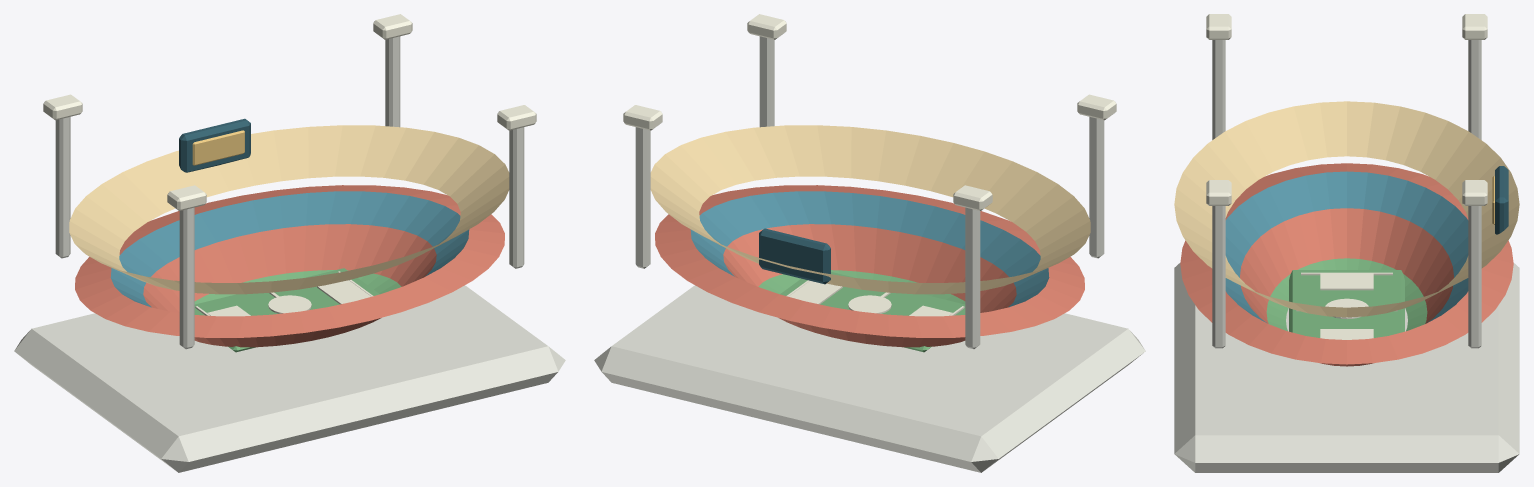
Rendered from world-cup-stadium.glb.
The picture shows the model from 3 angles, left to right: view 1: azimuth 30°, elevation 25°; view 2: azimuth 150°, elevation 25°; view 3: azimuth 270°, elevation 25°; orthographic projection. The views are drawn at different scales.
Parts seen in each view (by area): view 1: Stadium_Square_Plinth, Stadium_Stepped_Bowl, Stadium_Open_Roof_Ring, Pitch, Floodlight_Tower, Floodlight_Tower.002, Floodlight_Tower.001, Stadium_Scoreboard, Floodlight_Tower.003, Scoreboard_Gold_Band, Floodlight_Lamp.002, Floodlight_Lamp.003 (+4 smaller); view 2: Stadium_Square_Plinth, Stadium_Stepped_Bowl, Stadium_Open_Roof_Ring, Stadium_Scoreboard, Floodlight_Tower.001, Floodlight_Tower.003, Floodlight_Tower, Pitch, Floodlight_Tower.002, Floodlight_Lamp.003, Floodlight_Lamp.002, Floodlight_Lamp (+3 smaller); view 3: Stadium_Square_Plinth, Stadium_Stepped_Bowl, Stadium_Open_Roof_Ring, Pitch, Floodlight_Tower.002, Floodlight_Tower.003, Floodlight_Tower, Floodlight_Tower.001, Penalty_Box_Mark, Stadium_Scoreboard, Floodlight_Lamp, Floodlight_Lamp.001 (+4 smaller).
Boxes of the visible parts, bbox=[...] form: Stadium_Square_Plinth: bbox=[14, 285, 565, 472]; Stadium_Stepped_Bowl: bbox=[75, 185, 504, 347]; Stadium_Open_Roof_Ring: bbox=[69, 125, 509, 294]; Pitch: bbox=[194, 268, 379, 352]; Floodlight_Tower: bbox=[179, 207, 194, 349]; Floodlight_Tower.002: bbox=[509, 127, 524, 268]; Floodlight_Tower.001: bbox=[55, 117, 70, 258]; Stadium_Scoreboard: bbox=[179, 118, 250, 172]; Floodlight_Tower.003: bbox=[385, 36, 400, 127]; Scoreboard_Gold_Band: bbox=[192, 130, 244, 165]; Floodlight_Lamp.002: bbox=[497, 105, 536, 130]; Floodlight_Lamp.003: bbox=[373, 14, 412, 39]; Stadium_Square_Plinth: bbox=[594, 285, 1145, 472]; Stadium_Stepped_Bowl: bbox=[655, 185, 1084, 347]; Stadium_Open_Roof_Ring: bbox=[650, 125, 1090, 294]; Stadium_Scoreboard: bbox=[759, 228, 830, 284]; Floodlight_Tower.001: bbox=[965, 207, 980, 349]; Floodlight_Tower.003: bbox=[635, 127, 650, 268]; Floodlight_Tower: bbox=[1089, 117, 1104, 258]; Pitch: bbox=[780, 272, 965, 352]; Floodlight_Tower.002: bbox=[759, 36, 774, 127]; Floodlight_Lamp.003: bbox=[623, 105, 662, 130]; Floodlight_Lamp.002: bbox=[747, 14, 786, 39]; Floodlight_Lamp: bbox=[1077, 94, 1116, 120]; Stadium_Square_Plinth: bbox=[1174, 263, 1519, 472]; Stadium_Stepped_Bowl: bbox=[1180, 163, 1513, 366]; Stadium_Open_Roof_Ring: bbox=[1174, 101, 1519, 317]; Pitch: bbox=[1289, 270, 1404, 337]; Floodlight_Tower.002: bbox=[1212, 206, 1225, 348]; Floodlight_Tower.003: bbox=[1468, 206, 1481, 348]; Floodlight_Tower: bbox=[1212, 40, 1225, 139]; Floodlight_Tower.001: bbox=[1468, 40, 1481, 139]; Penalty_Box_Mark: bbox=[1320, 273, 1373, 290]; Stadium_Scoreboard: bbox=[1495, 166, 1508, 234]; Floodlight_Lamp: bbox=[1206, 14, 1231, 39]; Floodlight_Lamp.001: bbox=[1462, 14, 1487, 39].
Bounding box in the file's own units: 1.64 × 1.03 × 1.16.
